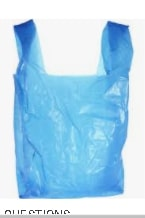kantong: (11, 18, 133, 198)
